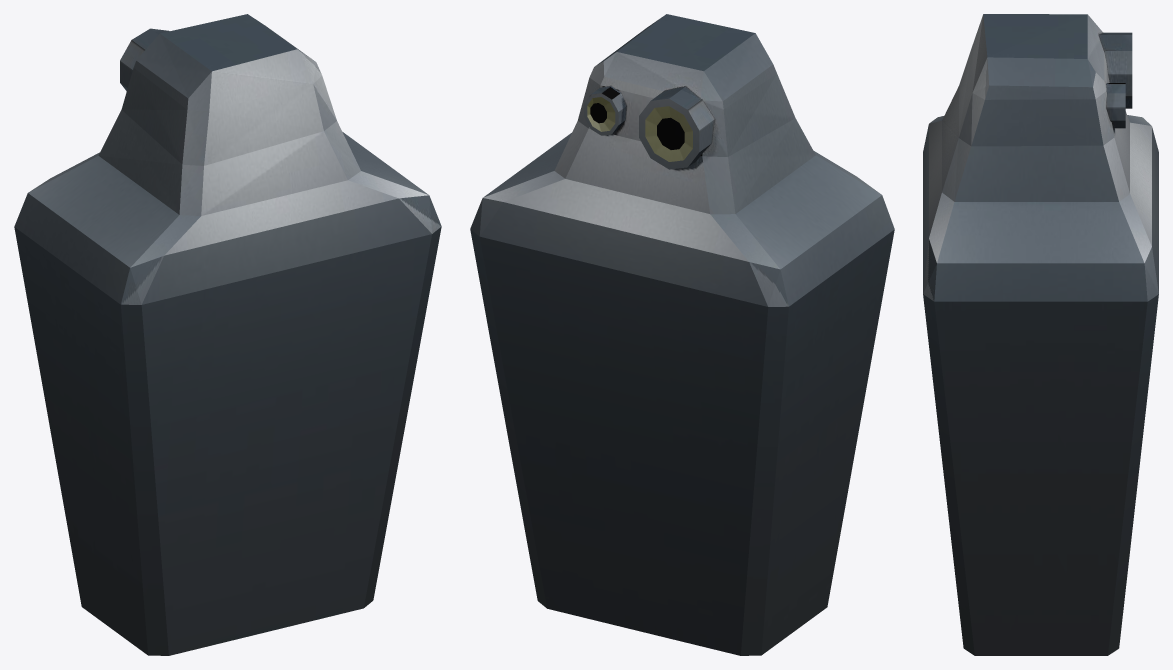
File: worker7.dae
3 views of the same model, side by side, from view 1: azimuth 30°, elevation 25°; view 2: azimuth 150°, elevation 25°; view 3: azimuth 270°, elevation 25° (orthographic).
Parts seen in each view (by area): view 1: worker; view 2: worker; view 3: worker.
Part boxes in pixels (x1=…): worker: x1=14, y1=14, x2=441, y2=655; worker: x1=470, y1=14, x2=894, y2=655; worker: x1=923, y1=14, x2=1158, y2=655.
Bounding box in the file's own units: 2.45 × 1.56 × 4.12.
1 material, 1 textured.
